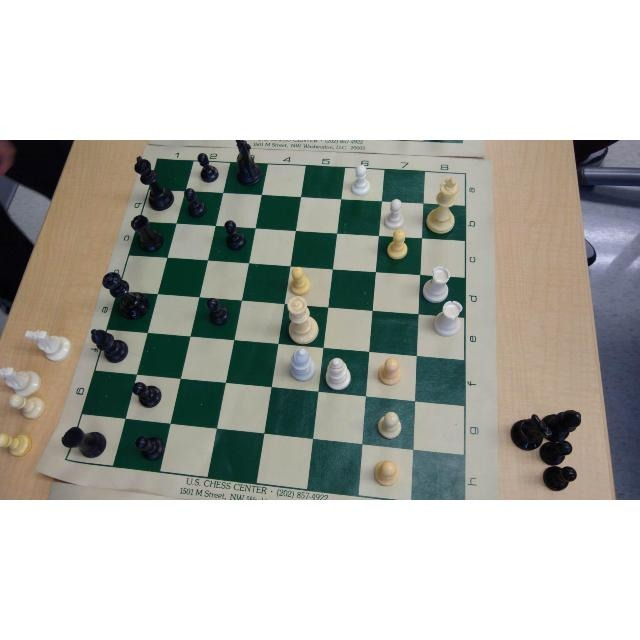black-bishop: (88, 326, 129, 366)
black-king: (130, 154, 176, 214)
black-knight: (230, 140, 264, 187)
black-pawn: (134, 433, 166, 463), (130, 381, 164, 409), (181, 185, 207, 221), (194, 150, 221, 184), (220, 218, 247, 252), (203, 295, 230, 327)
black-queen: (99, 269, 150, 323)
black-rook: (59, 423, 107, 463), (127, 212, 167, 256)
white-bishop: (285, 346, 317, 383), (323, 355, 352, 392)
white-king: (424, 176, 460, 236)
white-pawn: (375, 354, 405, 387), (347, 162, 372, 198), (371, 457, 399, 489), (376, 408, 402, 441), (286, 264, 311, 297), (385, 227, 408, 262), (383, 197, 405, 230)
white-queen: (285, 295, 321, 347)
white-rook: (431, 298, 464, 339), (421, 265, 451, 305)
